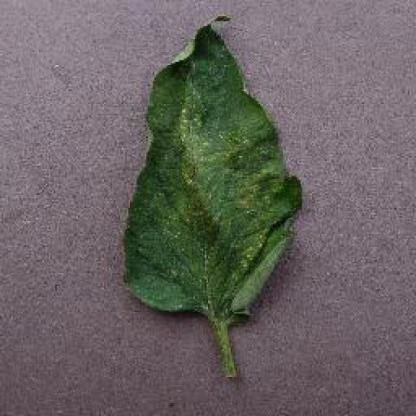Tomato_Spider_Mites: (123, 15, 302, 317)
